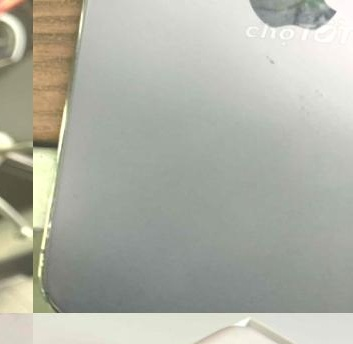scratch: (33, 179, 81, 311)
